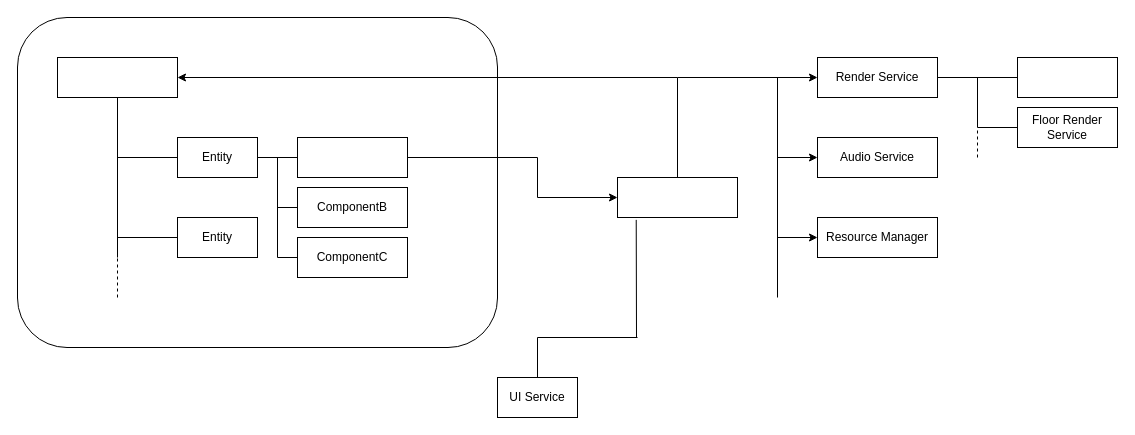
Some shapes in this 1135 by 435 pixel diagram are drawn without their labels. The centre of each missing label's shape, as x and y in pixels:
"ComponentA" belongs at (352,157).
"Service Locator" belongs at (677,197).
"Sprite Render Service" belongs at (1067,77).
"World" belongs at (117,77).
